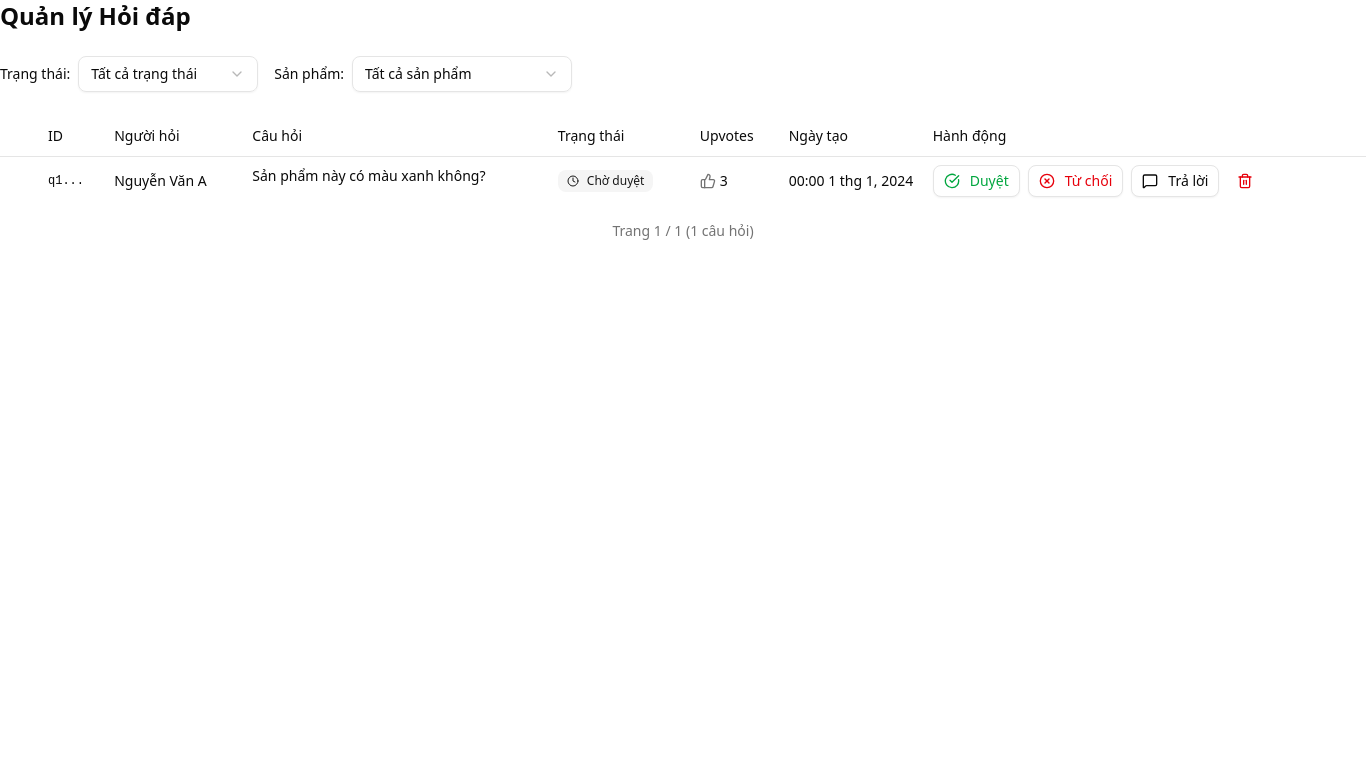
Radix dialogs expose a Description (D2-1) › AdminQAPage answer dialog renders a description without warnings
Click the button "Trả lời".
click(1175, 180)  # box x1=1131 y1=164 x2=1219 y2=196
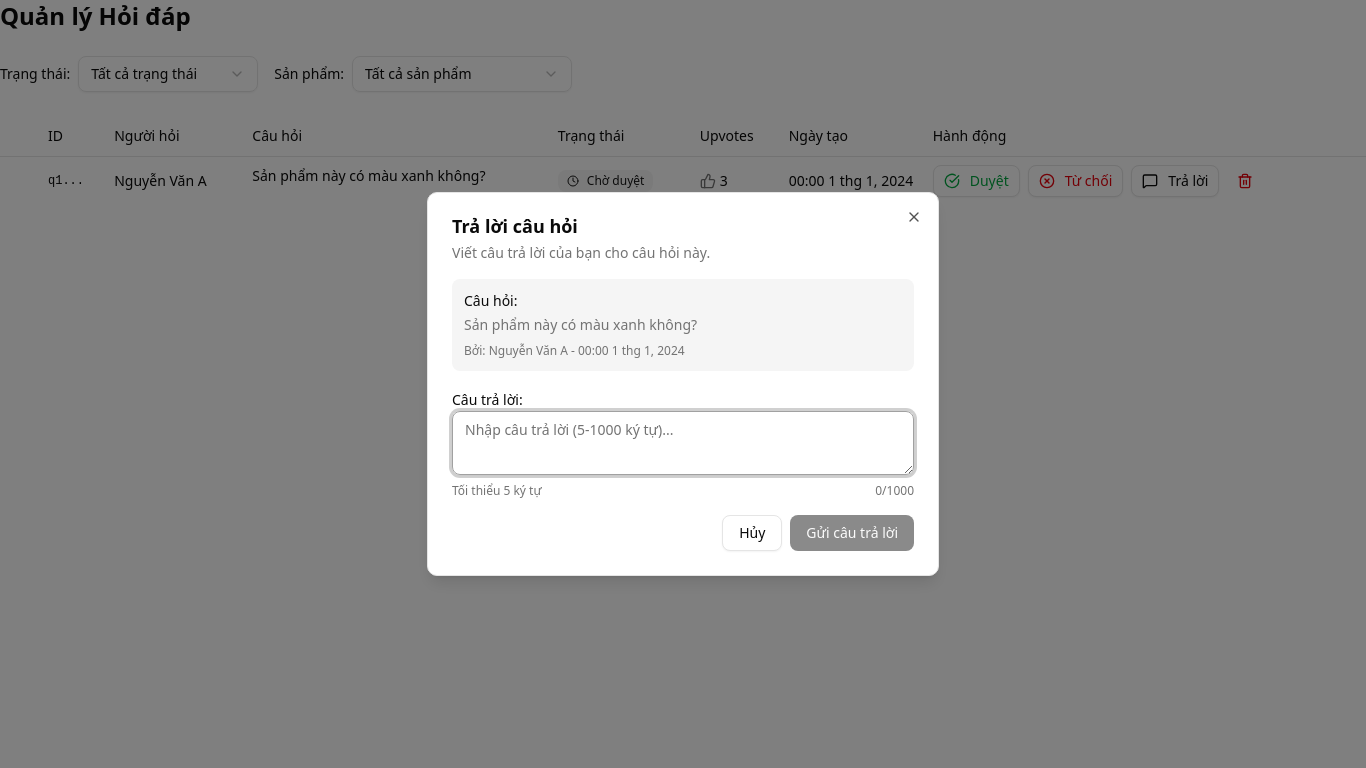
Expected: the dialog is shown, x1=427 y1=192 x2=939 y2=576
Expected: the text "Viết câu trả lời của bạn cho câu hỏi này." is shown, x1=452 y1=243 x2=710 y2=262
